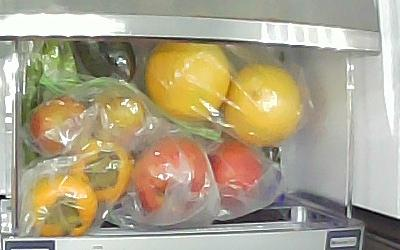apple_vinyl: (135, 136, 206, 213), (207, 140, 264, 209)
grapefruit_vinyl: (144, 41, 230, 121), (227, 63, 304, 147)
persimmon_vinyl: (31, 174, 99, 238), (70, 141, 131, 203)
prune_vinyl: (27, 98, 92, 155), (89, 93, 149, 143)
